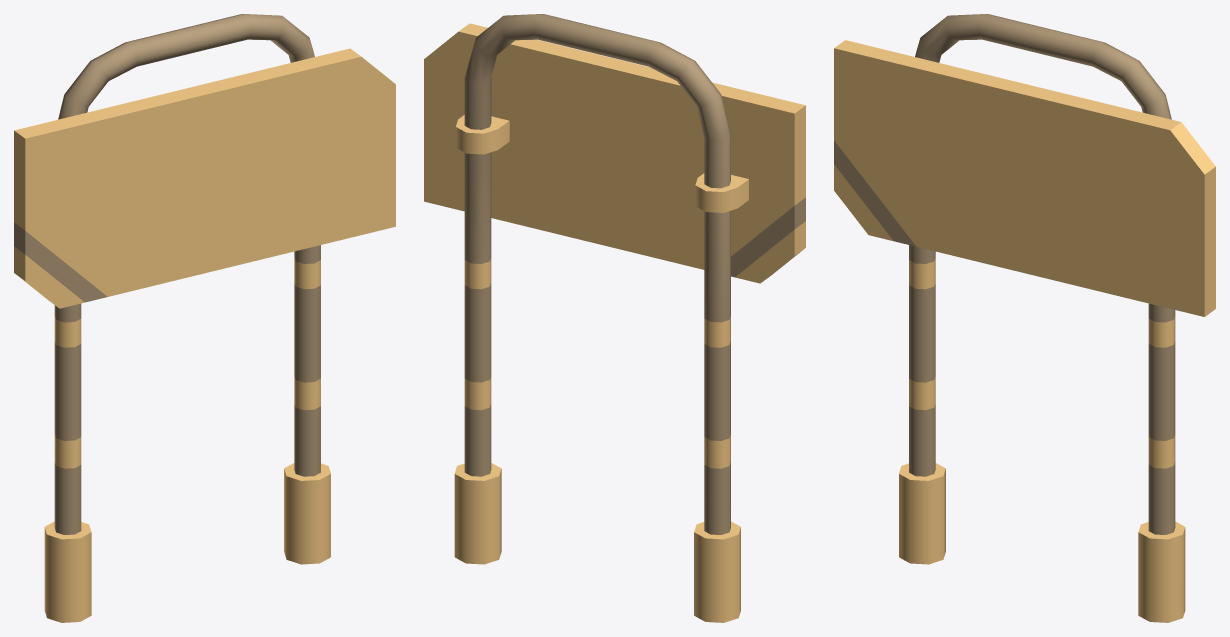
The model's file is Sign.fbx.
3 renders of one model, left to right at view 1: azimuth 30°, elevation 25°; view 2: azimuth 150°, elevation 25°; view 3: azimuth 330°, elevation 25°, orthographic.
Parts seen in each view (by area): view 1: Plane; view 2: Plane; view 3: Plane.
Boxes of the visible parts, x1,y1,x2,y2 form: Plane: (14,14,395,622); Plane: (424,14,805,622); Plane: (834,14,1215,622).
Bounding box in the file's own units: 92.83 × 133 × 15.16.
